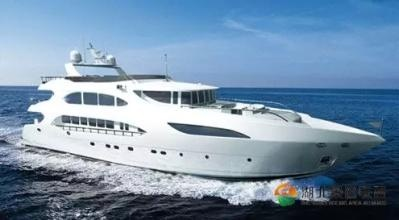yacht: (21, 43, 385, 176)
